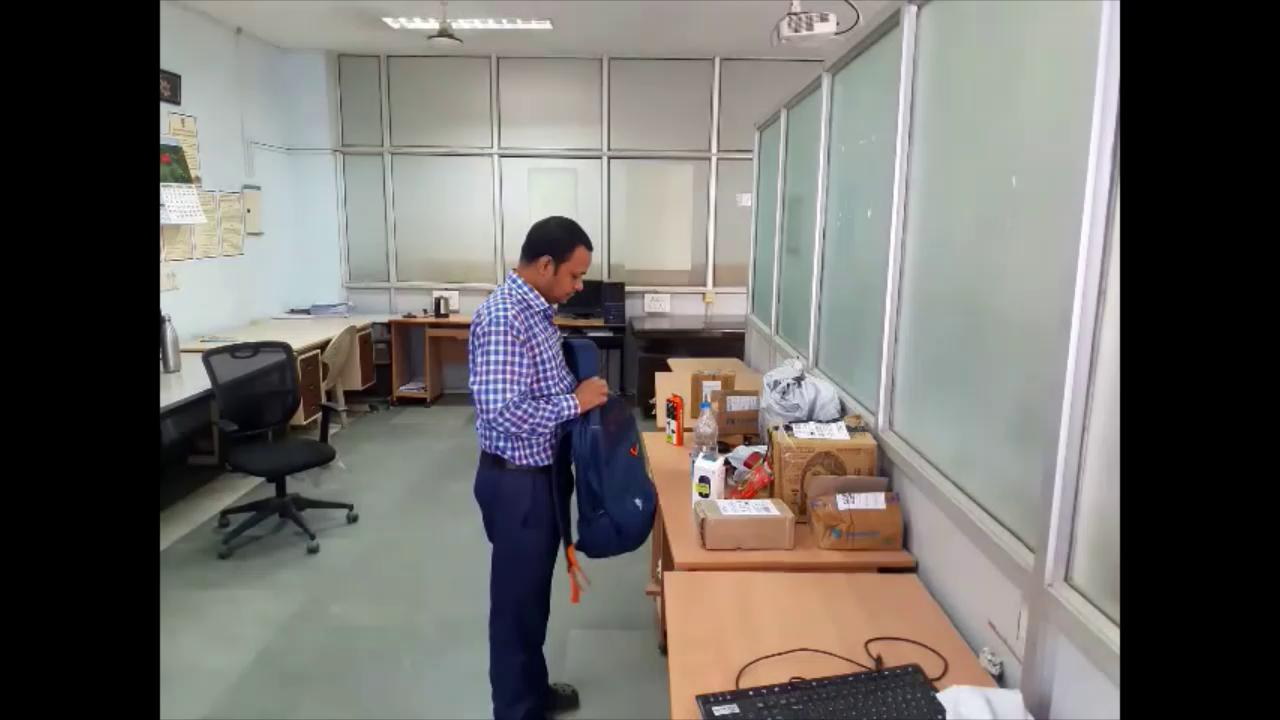shoplifting: (463, 211, 658, 719)
